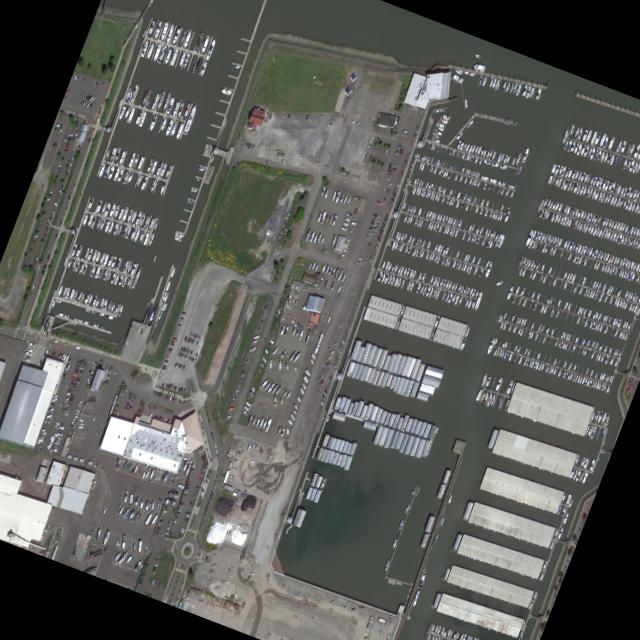ship: (181, 104, 197, 136), (129, 265, 142, 290), (204, 39, 215, 61), (156, 44, 167, 64), (473, 291, 483, 312), (160, 93, 171, 112), (155, 91, 165, 111), (194, 32, 204, 52), (169, 47, 179, 66), (182, 29, 192, 48), (199, 35, 209, 54), (165, 24, 174, 44), (151, 44, 161, 62), (170, 28, 181, 44), (159, 22, 168, 41), (485, 338, 495, 355), (534, 199, 544, 216), (165, 97, 174, 115), (152, 21, 161, 39), (494, 233, 504, 249), (169, 120, 178, 137), (126, 106, 135, 123), (150, 94, 159, 111), (148, 114, 157, 131), (164, 119, 173, 136), (174, 123, 183, 140), (177, 30, 186, 47), (139, 40, 148, 57), (145, 43, 154, 60), (524, 231, 533, 247), (138, 111, 147, 127), (483, 263, 492, 279), (520, 147, 529, 163), (561, 127, 569, 144), (598, 411, 607, 426), (175, 103, 184, 118), (127, 152, 135, 168), (131, 154, 139, 170), (423, 623, 431, 639), (107, 203, 115, 218), (632, 143, 640, 158), (182, 53, 190, 68), (199, 61, 207, 76), (102, 164, 110, 179), (117, 106, 125, 121), (108, 147, 116, 162), (140, 91, 148, 106), (134, 110, 142, 125), (171, 102, 179, 117), (145, 158, 153, 173), (149, 160, 157, 175), (154, 162, 162, 177), (158, 163, 166, 178), (163, 49, 171, 64), (513, 152, 521, 167), (472, 63, 485, 72), (432, 315, 440, 329), (133, 212, 141, 226), (584, 130, 592, 144), (589, 131, 597, 145), (113, 147, 121, 161), (112, 167, 120, 181), (107, 165, 115, 179), (117, 151, 125, 165), (182, 103, 190, 117), (136, 156, 144, 170), (163, 165, 171, 179), (139, 177, 147, 191), (134, 174, 142, 188), (97, 165, 105, 179), (147, 21, 155, 35), (319, 477, 327, 491), (451, 74, 463, 83), (598, 133, 605, 148), (86, 197, 93, 212), (178, 52, 185, 67), (589, 426, 597, 439), (458, 339, 466, 352), (567, 467, 575, 480), (120, 209, 128, 222), (580, 129, 588, 142), (567, 124, 575, 137), (121, 171, 129, 184), (103, 202, 111, 215), (89, 216, 97, 229), (142, 232, 149, 246), (593, 132, 600, 146), (99, 201, 106, 215), (147, 232, 154, 246), (193, 59, 200, 73), (514, 83, 521, 97), (524, 85, 531, 99), (509, 382, 516, 396), (503, 398, 510, 412), (595, 412, 603, 424), (219, 88, 231, 96), (495, 314, 503, 326), (588, 147, 595, 160), (608, 153, 615, 166), (603, 413, 610, 426), (93, 266, 100, 279), (120, 275, 127, 288), (129, 263, 136, 276), (125, 260, 132, 273), (114, 257, 121, 270), (109, 256, 116, 269), (105, 255, 112, 268), (112, 205, 119, 218), (129, 211, 136, 224), (70, 243, 77, 256), (74, 245, 81, 258), (615, 140, 622, 153), (619, 140, 626, 153), (575, 143, 582, 156), (82, 292, 89, 305), (105, 299, 112, 312), (576, 127, 583, 140), (149, 179, 156, 192), (124, 226, 131, 239), (133, 228, 140, 241), (123, 107, 130, 120), (103, 148, 110, 161), (124, 88, 131, 101), (159, 118, 166, 131), (81, 214, 88, 227), (116, 169, 123, 182), (158, 183, 165, 196), (577, 470, 584, 483), (582, 145, 589, 157), (598, 151, 605, 163), (627, 160, 634, 172), (592, 411, 599, 423), (463, 326, 470, 338), (561, 513, 568, 525), (574, 470, 581, 482), (556, 528, 563, 540), (112, 273, 119, 285), (121, 261, 128, 273), (101, 254, 108, 266), (81, 263, 88, 275), (125, 211, 132, 223), (129, 228, 136, 240), (137, 215, 144, 227), (142, 216, 149, 228), (147, 218, 154, 230), (71, 289, 78, 301), (606, 138, 613, 150), (628, 144, 635, 156), (116, 304, 123, 316), (98, 219, 105, 231), (111, 223, 118, 235), (94, 217, 101, 229), (95, 201, 102, 213), (86, 214, 93, 226), (126, 172, 133, 184), (503, 211, 510, 223), (379, 272, 386, 284), (316, 333, 323, 345), (429, 128, 436, 140), (581, 471, 587, 484), (117, 208, 123, 221), (103, 220, 109, 233), (621, 159, 628, 170), (624, 143, 631, 154), (588, 459, 595, 470), (553, 164, 560, 175), (97, 268, 104, 279), (120, 225, 127, 236), (73, 261, 80, 272), (75, 291, 82, 302), (126, 91, 133, 102), (550, 163, 557, 174), (615, 155, 621, 167), (631, 161, 637, 173), (634, 162, 640, 174), (582, 457, 588, 469), (90, 251, 96, 263), (98, 253, 104, 265), (64, 287, 70, 299), (107, 221, 113, 233), (78, 262, 84, 274), (68, 288, 74, 300), (579, 145, 585, 157), (602, 136, 608, 148), (455, 132, 463, 141), (465, 120, 473, 129), (493, 78, 499, 90), (534, 88, 540, 100), (612, 155, 618, 167), (564, 494, 571, 504), (586, 147, 592, 158), (592, 149, 598, 160), (595, 150, 601, 161), (602, 152, 608, 163), (571, 469, 577, 480), (579, 457, 585, 468), (556, 504, 562, 515), (584, 187, 590, 198), (609, 182, 615, 193), (599, 192, 605, 203), (596, 191, 602, 202), (593, 190, 599, 201), (594, 177, 600, 188), (627, 200, 633, 211), (562, 180, 568, 191), (578, 185, 584, 196), (579, 172, 585, 183), (575, 184, 581, 195), (572, 183, 578, 194), (563, 167, 569, 178), (560, 166, 566, 177), (466, 298, 472, 309), (102, 269, 108, 280), (117, 274, 123, 285), (57, 285, 63, 296), (89, 266, 95, 277), (116, 225, 122, 236), (138, 231, 144, 242), (66, 258, 72, 269), (70, 260, 76, 271), (573, 142, 579, 153), (569, 141, 575, 152), (101, 299, 107, 310), (98, 298, 104, 309), (566, 140, 572, 151), (573, 127, 579, 138), (132, 84, 138, 95), (427, 287, 433, 298), (434, 289, 440, 300), (453, 295, 459, 306), (418, 284, 424, 295), (389, 275, 395, 286), (376, 271, 382, 282), (386, 274, 392, 285), (383, 273, 389, 284), (415, 283, 421, 294), (399, 278, 405, 289), (405, 280, 411, 291), (516, 165, 522, 176), (508, 82, 514, 93), (521, 85, 527, 96), (458, 140, 464, 151), (605, 154, 611, 164), (428, 331, 434, 341), (586, 426, 592, 436), (469, 300, 475, 310), (573, 455, 579, 465), (560, 506, 566, 516), (548, 540, 554, 550), (628, 226, 634, 236), (616, 234, 622, 244), (567, 241, 573, 251), (573, 243, 579, 253), (581, 245, 587, 255), (592, 249, 598, 259), (595, 250, 601, 260), (624, 200, 630, 210), (625, 187, 631, 197), (621, 187, 627, 197), (618, 198, 624, 208), (611, 196, 617, 206), (615, 185, 621, 195), (608, 195, 614, 205), (602, 194, 608, 204), (603, 181, 609, 191), (600, 180, 606, 190), (590, 189, 596, 199), (591, 177, 597, 187), (631, 190, 637, 200), (633, 203, 639, 213), (553, 202, 559, 212), (556, 203, 562, 213), (561, 216, 567, 226), (582, 174, 588, 184), (576, 172, 582, 182), (559, 179, 565, 189), (553, 177, 559, 187), (125, 277, 131, 287), (94, 252, 100, 262), (501, 154, 507, 164), (152, 221, 158, 231), (86, 251, 92, 261), (109, 302, 115, 312), (113, 304, 119, 314), (91, 296, 97, 306), (434, 277, 440, 287), (440, 291, 446, 301), (452, 282, 458, 292), (458, 284, 464, 294), (456, 296, 462, 306), (461, 285, 467, 295), (383, 261, 389, 271), (392, 277, 398, 287), (395, 277, 401, 287), (408, 282, 414, 292), (455, 140, 461, 150), (476, 146, 482, 156), (528, 87, 534, 97), (500, 81, 506, 91), (504, 82, 510, 92), (512, 82, 517, 94), (601, 216, 606, 227), (613, 183, 618, 194), (585, 174, 590, 185), (110, 272, 115, 283), (563, 139, 568, 150), (425, 286, 430, 297), (477, 75, 482, 86), (560, 493, 566, 502), (552, 529, 558, 538), (617, 223, 623, 232), (614, 222, 620, 231), (539, 233, 545, 242), (542, 234, 548, 243), (595, 215, 601, 224), (602, 230, 608, 239), (605, 230, 611, 239), (624, 237, 630, 246), (627, 238, 633, 247), (591, 227, 597, 236), (592, 215, 598, 224), (605, 194, 611, 203), (550, 201, 556, 210), (570, 208, 576, 217), (578, 211, 584, 220), (577, 222, 583, 231), (544, 211, 550, 220), (557, 166, 563, 175), (541, 210, 547, 219), (473, 289, 479, 298), (105, 271, 111, 280), (441, 114, 450, 120), (498, 164, 507, 170), (94, 298, 100, 307), (428, 275, 434, 284), (431, 276, 437, 285), (431, 288, 437, 297), (443, 280, 449, 289), (446, 281, 452, 290), (389, 263, 395, 272), (392, 264, 398, 273), (398, 266, 404, 275), (442, 215, 448, 224), (496, 181, 505, 187), (488, 178, 497, 184), (546, 176, 552, 185), (600, 429, 605, 439), (589, 412, 594, 422), (534, 230, 539, 240), (608, 231, 613, 241), (612, 221, 617, 231), (548, 235, 553, 245), (554, 237, 559, 247), (556, 238, 561, 248), (601, 252, 606, 262), (628, 189, 633, 199), (615, 197, 620, 207), (607, 181, 612, 191), (630, 202, 635, 212), (587, 188, 592, 198), (589, 175, 594, 185), (553, 213, 558, 223), (556, 214, 561, 224), (564, 217, 569, 227), (573, 208, 578, 218), (576, 209, 581, 219), (581, 186, 586, 196), (573, 171, 578, 181), (569, 182, 574, 192), (570, 170, 575, 180), (566, 182, 571, 192), (61, 287, 66, 297), (83, 250, 88, 260), (129, 94, 134, 104), (468, 287, 473, 297), (496, 153, 501, 163), (421, 286, 426, 296), (447, 293, 452, 303), (456, 283, 461, 293), (490, 150, 495, 160), (481, 76, 486, 86), (491, 78, 496, 88), (128, 494, 133, 504), (144, 468, 149, 478), (558, 216, 564, 224), (435, 245, 441, 253), (449, 283, 455, 291), (464, 287, 470, 295), (410, 271, 416, 279), (482, 159, 490, 165), (454, 69, 462, 75), (480, 175, 488, 181), (625, 161, 630, 170), (442, 628, 447, 637), (584, 426, 589, 435), (541, 561, 546, 570), (538, 572, 543, 581), (527, 602, 532, 611), (517, 631, 522, 640), (470, 289, 475, 298), (634, 228, 639, 237), (631, 227, 636, 236), (623, 225, 628, 234), (531, 230, 536, 239), (537, 232, 542, 241), (594, 227, 599, 236), (597, 228, 602, 237), (600, 229, 605, 238), (604, 218, 609, 227), (611, 233, 616, 242), (614, 233, 619, 242), (619, 235, 624, 244), (622, 236, 627, 245), (630, 239, 635, 248), (543, 245, 548, 254), (551, 236, 556, 245), (606, 255, 611, 264), (612, 256, 617, 265), (617, 258, 622, 267), (627, 272, 632, 281), (629, 273, 634, 282), (634, 263, 639, 272), (600, 263, 605, 272), (574, 255, 579, 264), (548, 246, 553, 255), (562, 240, 567, 249), (565, 241, 570, 250), (571, 243, 576, 252), (585, 246, 590, 255), (587, 248, 592, 257), (598, 252, 603, 261), (589, 226, 594, 235), (621, 200, 626, 209), (619, 186, 624, 195), (590, 214, 595, 223), (562, 205, 567, 214), (565, 206, 570, 215), (568, 207, 573, 216), (572, 220, 577, 229), (575, 221, 580, 230), (584, 212, 589, 221), (580, 223, 585, 232), (587, 213, 592, 222), (548, 201, 553, 210), (550, 213, 555, 222), (567, 169, 572, 178), (556, 178, 561, 187), (538, 209, 543, 218), (542, 199, 547, 208), (628, 261, 633, 270), (87, 295, 92, 304), (504, 156, 509, 165), (499, 154, 504, 163), (456, 262, 461, 271), (443, 257, 448, 266), (444, 247, 449, 256), (435, 255, 440, 264), (438, 245, 443, 254), (432, 254, 437, 263), (411, 248, 416, 257), (399, 233, 404, 242), (438, 278, 443, 287), (441, 279, 446, 288), (444, 293, 449, 302), (450, 294, 455, 303), (463, 299, 468, 308), (420, 272, 425, 281), (417, 272, 422, 281), (390, 241, 395, 250), (394, 231, 399, 240), (380, 261, 385, 270), (386, 263, 391, 272), (402, 267, 407, 276), (404, 268, 409, 277), (408, 269, 413, 278), (461, 142, 466, 151), (467, 144, 472, 153), (470, 145, 475, 154), (473, 146, 478, 155), (479, 147, 484, 156), (411, 206, 416, 215), (415, 218, 420, 227), (434, 223, 439, 232), (448, 217, 453, 226), (451, 218, 456, 227), (453, 219, 458, 228), (488, 79, 493, 88), (402, 214, 407, 223), (636, 149, 640, 160), (507, 184, 514, 190), (436, 626, 441, 634), (429, 624, 434, 632), (440, 196, 445, 204), (439, 627, 444, 635), (582, 378, 587, 386), (594, 381, 599, 389), (599, 383, 604, 391), (604, 385, 609, 393), (492, 348, 497, 356), (494, 349, 499, 357), (497, 349, 502, 357), (561, 371, 566, 379), (529, 360, 534, 368), (534, 362, 539, 370), (556, 369, 561, 377), (445, 629, 450, 637), (567, 500, 572, 508), (520, 620, 525, 628), (626, 226, 631, 234), (620, 224, 625, 232), (527, 240, 532, 248), (530, 241, 535, 249), (540, 245, 545, 253), (545, 235, 550, 243), (609, 221, 614, 229), (633, 240, 638, 248), (605, 265, 610, 273), (607, 266, 612, 274), (609, 256, 614, 264), (617, 269, 622, 277), (622, 270, 627, 278), (604, 254, 609, 262), (566, 253, 571, 261), (571, 255, 576, 263), (576, 245, 581, 253), (590, 250, 595, 258), (592, 261, 597, 269), (598, 179, 603, 187), (636, 204, 640, 214), (581, 212, 586, 220), (583, 224, 588, 232), (586, 225, 591, 233), (79, 294, 84, 302), (490, 162, 498, 167), (105, 315, 113, 320), (141, 29, 146, 37), (451, 260, 456, 268), (454, 251, 459, 259), (441, 247, 446, 255), (433, 244, 438, 252), (427, 253, 432, 261), (424, 252, 429, 260), (425, 241, 430, 249), (414, 238, 419, 246), (409, 237, 414, 245), (454, 261, 459, 269), (475, 226, 480, 234), (480, 238, 485, 246), (483, 229, 488, 237), (485, 240, 490, 248), (488, 230, 493, 238), (484, 260, 489, 268), (478, 269, 483, 277), (467, 266, 472, 274), (470, 256, 475, 264), (398, 244, 403, 252), (393, 242, 398, 250), (396, 233, 401, 241), (396, 266, 401, 274), (467, 224, 472, 232), (453, 230, 458, 238), (439, 119, 447, 124), (464, 144, 469, 152), (481, 150, 486, 158), (456, 220, 461, 228), (413, 218, 418, 226), (418, 219, 423, 227), (424, 211, 429, 219), (427, 211, 432, 219), (426, 221, 431, 229), (429, 212, 434, 220), (437, 225, 442, 233), (437, 214, 442, 222), (440, 215, 445, 223), (442, 227, 447, 235), (445, 217, 450, 225), (450, 229, 455, 237), (405, 216, 410, 224), (401, 202, 406, 210), (631, 263, 636, 271), (411, 187, 416, 195), (494, 232, 499, 240), (440, 257, 445, 265), (512, 354, 517, 362), (603, 374, 608, 382), (615, 299, 620, 307), (416, 188, 421, 196), (427, 165, 432, 173), (496, 187, 501, 195), (452, 631, 457, 639), (623, 260, 628, 268), (516, 327, 521, 335), (519, 318, 524, 326), (607, 219, 611, 228), (636, 240, 640, 249), (610, 267, 614, 276), (615, 257, 619, 266), (577, 256, 581, 265), (420, 239, 424, 248), (488, 149, 492, 158), (511, 157, 515, 166), (429, 222, 433, 231), (409, 205, 413, 214), (559, 250, 563, 259), (573, 375, 578, 382), (580, 377, 585, 384), (587, 380, 592, 387), (592, 381, 597, 388), (515, 346, 520, 353), (525, 349, 530, 356), (532, 361, 537, 368), (544, 366, 549, 373), (458, 633, 463, 640), (469, 235, 474, 242), (465, 255, 470, 262), (438, 123, 445, 128), (475, 180, 480, 187), (191, 60, 196, 67), (409, 186, 414, 193), (529, 322, 534, 329), (605, 375, 610, 382), (578, 338, 583, 345), (433, 625, 437, 633), (498, 214, 502, 222), (484, 200, 488, 208), (585, 379, 589, 387), (590, 380, 594, 388), (564, 371, 568, 379), (566, 373, 570, 381), (567, 363, 571, 371), (522, 358, 526, 366), (502, 351, 506, 359), (523, 348, 527, 356), (527, 359, 531, 367), (547, 366, 551, 374), (532, 592, 536, 600), (551, 248, 555, 256), (613, 267, 617, 275), (620, 270, 624, 278), (625, 271, 629, 279), (635, 275, 639, 283), (579, 246, 583, 254), (582, 258, 586, 266), (595, 262, 599, 270), (635, 191, 639, 199), (567, 219, 571, 227), (546, 200, 550, 208), (419, 250, 423, 258), (414, 249, 418, 257), (417, 239, 421, 247), (404, 245, 408, 253), (463, 254, 467, 262), (460, 263, 464, 271), (470, 224, 474, 232), (472, 235, 476, 243), (478, 227, 482, 235), (486, 229, 490, 237), (491, 231, 495, 239), (473, 267, 477, 275), (465, 265, 469, 273), (462, 264, 466, 272), (396, 243, 400, 251), (461, 232, 465, 240), (485, 150, 489, 158), (436, 194, 440, 202), (421, 190, 425, 198), (417, 208, 421, 216), (432, 223, 436, 231), (435, 213, 439, 221), (448, 228, 452, 236), (408, 216, 412, 224), (420, 163, 424, 171), (626, 261, 630, 269), (583, 339, 587, 347), (406, 205, 410, 213), (431, 193, 435, 201), (446, 259, 450, 267), (593, 371, 597, 379), (595, 343, 599, 351), (419, 180, 423, 188), (417, 179, 421, 187), (487, 183, 491, 191), (412, 178, 416, 186), (505, 352, 509, 360), (519, 328, 523, 336), (55, 299, 61, 304), (57, 312, 63, 317), (98, 312, 104, 317), (435, 131, 441, 136), (178, 115, 184, 120), (437, 168, 441, 175), (432, 167, 436, 174), (439, 169, 443, 176), (444, 171, 448, 178), (454, 174, 458, 181), (450, 199, 454, 206), (459, 175, 463, 182), (463, 177, 467, 184), (468, 178, 472, 185), (488, 211, 492, 218), (472, 197, 476, 204), (467, 196, 471, 203), (568, 374, 572, 381), (572, 365, 576, 372), (571, 374, 575, 381), (576, 376, 580, 383), (578, 377, 582, 384), (584, 368, 588, 375), (597, 383, 601, 390), (602, 384, 606, 391), (500, 351, 504, 358), (537, 363, 541, 370), (549, 367, 553, 374), (552, 368, 556, 375), (462, 633, 466, 640), (533, 242, 537, 249), (603, 265, 607, 272), (51, 300, 55, 307), (430, 254, 434, 261), (417, 250, 421, 257), (406, 246, 410, 253), (407, 236, 411, 243), (467, 234, 471, 241), (475, 237, 479, 244), (488, 241, 492, 248), (476, 258, 480, 265), (474, 157, 478, 164), (424, 191, 428, 198), (448, 199, 452, 206), (455, 201, 459, 208), (464, 204, 468, 211), (491, 212, 495, 219), (419, 190, 423, 197), (424, 182, 428, 189), (427, 183, 431, 190), (432, 213, 436, 220), (509, 191, 513, 198), (504, 189, 508, 196), (499, 188, 503, 195), (482, 183, 486, 190), (414, 188, 418, 195), (426, 192, 430, 199), (460, 202, 464, 209), (415, 178, 419, 185), (446, 172, 450, 179), (455, 633, 459, 640), (637, 229, 640, 238), (637, 276, 640, 285), (637, 264, 640, 273), (637, 193, 640, 202), (63, 314, 68, 319), (442, 171, 446, 177), (427, 634, 431, 640), (449, 164, 453, 170), (473, 180, 477, 186), (471, 179, 475, 185), (445, 198, 449, 204), (499, 205, 503, 211), (479, 209, 483, 215), (479, 200, 483, 206), (474, 207, 478, 213), (82, 321, 88, 325), (84, 308, 90, 312), (90, 310, 96, 314), (92, 324, 98, 328), (456, 191, 459, 199), (465, 195, 469, 201), (433, 139, 439, 143), (429, 144, 433, 150), (437, 127, 443, 131), (478, 159, 482, 165), (465, 155, 469, 161), (463, 154, 467, 160), (448, 190, 452, 196), (441, 188, 445, 194), (434, 194, 438, 200), (436, 186, 440, 192), (483, 210, 487, 216), (429, 184, 433, 190), (473, 227, 477, 233), (458, 153, 462, 159), (431, 158, 435, 164), (435, 159, 439, 165), (441, 161, 445, 167), (448, 150, 452, 156), (454, 151, 458, 157), (429, 167, 433, 173), (449, 630, 452, 638), (422, 568, 426, 574), (145, 101, 149, 107), (494, 213, 497, 220), (429, 192, 432, 199), (418, 163, 421, 170), (430, 635, 434, 640), (460, 168, 464, 173), (464, 169, 468, 174), (77, 319, 82, 323), (463, 71, 468, 75), (474, 54, 479, 58), (430, 158, 434, 163), (437, 161, 441, 166), (461, 154, 465, 159), (467, 156, 471, 161), (420, 155, 424, 160), (422, 156, 426, 161), (466, 169, 469, 175), (470, 171, 473, 177), (472, 171, 475, 177), (476, 172, 479, 178), (496, 214, 499, 220), (468, 73, 474, 76), (463, 194, 466, 200), (439, 187, 442, 193), (432, 184, 435, 190), (468, 170, 471, 176), (424, 156, 427, 162), (434, 159, 437, 165), (451, 150, 454, 156), (470, 156, 473, 162), (416, 161, 419, 167), (435, 428, 438, 434), (433, 636, 437, 640), (453, 166, 456, 171), (474, 172, 477, 177), (426, 157, 429, 162), (408, 167, 411, 172), (466, 636, 469, 640), (73, 318, 77, 321), (463, 297, 466, 301), (405, 178, 408, 182), (413, 154, 416, 158), (410, 163, 413, 167), (437, 637, 440, 640), (472, 637, 475, 640), (469, 637, 472, 640), (489, 262, 492, 264), (415, 282, 417, 284)
small-vehicle: (116, 505, 121, 513), (92, 414, 96, 421), (251, 443, 255, 450), (200, 454, 205, 459), (74, 364, 79, 369), (225, 568, 230, 573), (102, 508, 106, 514), (136, 513, 140, 519), (155, 477, 159, 483), (147, 479, 153, 483), (138, 467, 142, 473), (123, 341, 127, 347), (139, 328, 143, 334), (127, 462, 131, 468), (100, 364, 104, 370), (268, 113, 272, 119), (369, 137, 373, 143), (401, 130, 407, 134), (337, 349, 341, 355), (332, 363, 336, 369), (246, 445, 250, 451), (137, 326, 140, 333), (157, 581, 160, 588), (116, 459, 121, 463), (114, 463, 119, 467), (157, 498, 162, 502), (165, 418, 169, 423), (162, 510, 167, 514), (158, 519, 163, 523), (171, 488, 175, 493), (73, 383, 78, 387), (88, 370, 93, 374), (78, 400, 83, 404), (77, 403, 82, 407), (49, 402, 54, 406), (395, 183, 399, 188), (399, 171, 403, 176), (330, 600, 334, 605), (341, 605, 346, 609), (376, 200, 381, 204), (391, 192, 395, 197), (372, 213, 377, 217), (369, 221, 374, 225), (378, 231, 382, 236), (379, 228, 383, 233), (323, 389, 327, 394), (321, 394, 325, 399), (319, 401, 323, 406), (322, 392, 326, 397), (340, 340, 344, 345), (148, 413, 152, 418), (231, 467, 236, 471), (233, 459, 238, 463), (199, 472, 204, 476), (191, 495, 196, 499), (148, 501, 151, 507), (115, 413, 118, 419), (164, 394, 167, 400), (97, 363, 100, 369), (57, 353, 60, 359), (369, 257, 372, 263), (191, 333, 194, 339), (103, 546, 106, 552), (378, 630, 381, 636), (634, 363, 637, 369), (376, 236, 379, 242), (185, 348, 188, 354), (187, 337, 190, 343), (178, 386, 181, 392), (168, 395, 171, 401), (168, 383, 171, 389), (211, 487, 214, 493), (213, 480, 216, 486), (105, 376, 109, 380), (152, 415, 156, 419), (154, 416, 158, 420), (157, 416, 161, 420), (138, 578, 142, 582), (174, 515, 178, 519), (155, 558, 159, 562), (151, 568, 155, 572), (202, 461, 206, 465), (64, 397, 68, 401), (68, 398, 72, 402), (92, 361, 96, 365), (74, 415, 78, 419), (72, 418, 76, 422), (69, 424, 73, 428), (113, 409, 117, 413), (62, 373, 66, 377), (74, 371, 78, 375), (385, 177, 389, 181), (387, 172, 391, 176), (373, 222, 377, 226), (357, 257, 361, 261), (342, 249, 346, 253), (382, 187, 386, 191), (387, 169, 391, 173), (385, 188, 389, 192), (370, 219, 374, 223), (325, 362, 329, 366), (317, 376, 321, 380), (318, 382, 322, 386), (317, 386, 321, 390), (315, 390, 319, 394), (336, 354, 340, 358), (327, 356, 331, 360), (179, 316, 183, 320), (181, 311, 185, 315), (176, 323, 180, 327), (178, 321, 182, 325), (164, 357, 168, 361), (178, 504, 182, 508), (179, 530, 183, 534), (115, 462, 120, 465), (153, 477, 156, 482), (125, 464, 128, 469), (211, 437, 214, 442), (204, 479, 207, 484), (207, 498, 210, 503), (206, 501, 209, 506), (258, 447, 261, 452), (152, 405, 155, 410), (163, 409, 166, 414), (170, 396, 173, 401), (158, 392, 161, 397), (210, 432, 213, 437), (199, 421, 202, 426), (65, 392, 70, 395), (75, 409, 80, 412), (74, 412, 79, 415), (71, 421, 76, 424), (106, 366, 109, 371), (51, 351, 54, 356), (52, 352, 55, 357), (81, 359, 84, 364), (161, 383, 164, 388), (171, 385, 174, 390), (364, 237, 369, 240), (375, 240, 378, 245), (245, 142, 248, 147), (247, 143, 250, 148), (376, 159, 379, 164), (197, 335, 200, 340), (195, 335, 198, 340), (193, 334, 196, 339), (249, 572, 254, 575), (152, 581, 155, 586), (249, 143, 252, 148), (252, 144, 255, 149), (415, 125, 418, 130), (397, 152, 402, 155), (577, 527, 580, 532), (376, 630, 379, 635), (390, 197, 393, 202), (183, 348, 186, 353), (189, 350, 192, 355), (187, 355, 190, 360), (195, 341, 198, 346), (189, 332, 192, 337), (183, 353, 186, 358), (325, 386, 328, 391), (191, 339, 194, 344), (189, 338, 192, 343), (180, 388, 183, 393), (173, 362, 176, 367), (179, 364, 182, 369), (181, 365, 184, 370), (179, 352, 182, 357), (181, 347, 184, 352), (183, 336, 186, 341), (179, 346, 182, 351), (175, 386, 178, 391), (170, 384, 173, 389), (164, 383, 167, 388), (163, 383, 166, 388), (175, 363, 178, 368), (185, 355, 188, 360), (192, 358, 195, 363), (213, 443, 216, 448), (228, 478, 233, 481), (228, 475, 233, 478), (212, 484, 215, 489), (199, 491, 202, 496), (71, 376, 75, 379), (166, 384, 169, 388), (127, 408, 131, 411), (106, 373, 110, 376), (103, 380, 107, 383), (94, 431, 96, 437), (119, 393, 123, 396), (126, 400, 130, 403), (130, 400, 133, 404), (127, 397, 131, 400), (136, 409, 140, 412), (136, 410, 139, 414), (161, 475, 164, 479), (209, 494, 211, 500), (204, 507, 206, 513), (253, 444, 256, 448), (259, 449, 262, 453), (159, 417, 162, 421), (203, 430, 205, 436), (145, 559, 148, 563), (137, 581, 141, 584), (182, 457, 186, 460), (179, 502, 183, 505), (182, 493, 186, 496), (184, 486, 188, 489), (152, 566, 156, 569), (124, 406, 127, 410), (125, 404, 128, 408), (125, 402, 129, 405), (73, 386, 77, 389), (63, 400, 67, 403), (85, 381, 89, 384), (99, 359, 103, 362), (114, 405, 118, 408), (79, 367, 83, 370), (36, 363, 39, 367), (61, 377, 65, 380), (72, 374, 76, 377), (79, 369, 82, 373), (75, 378, 79, 381), (70, 380, 74, 383), (70, 382, 73, 386), (67, 389, 71, 392), (70, 393, 73, 397), (69, 396, 73, 399), (74, 368, 78, 371), (381, 200, 385, 203), (374, 220, 378, 223), (366, 232, 370, 235), (372, 217, 376, 220), (349, 227, 353, 230), (348, 229, 352, 232), (340, 254, 344, 257), (328, 122, 332, 125), (355, 121, 359, 124), (393, 131, 397, 134), (387, 183, 391, 186), (153, 564, 157, 567), (243, 142, 246, 146), (385, 149, 388, 153), (395, 147, 399, 150), (397, 145, 401, 148), (414, 129, 417, 133), (394, 152, 397, 156), (403, 160, 406, 164), (392, 167, 395, 171), (565, 560, 567, 566), (553, 593, 555, 599), (371, 231, 374, 235), (377, 234, 380, 238), (381, 222, 384, 226), (185, 338, 188, 342), (194, 353, 197, 357), (189, 357, 192, 361), (191, 357, 193, 363), (316, 378, 319, 382), (327, 347, 331, 350), (176, 387, 179, 391), (177, 364, 180, 368), (177, 352, 180, 356), (172, 337, 176, 340), (170, 340, 174, 343), (165, 354, 169, 357), (162, 365, 166, 368), (161, 367, 165, 370), (173, 520, 177, 523), (168, 520, 172, 523), (164, 532, 168, 535), (127, 519, 131, 522), (167, 350, 171, 353), (162, 362, 166, 365), (181, 354, 184, 358), (177, 509, 181, 512), (177, 507, 181, 510), (250, 460, 254, 463), (201, 468, 205, 471), (183, 491, 187, 494), (198, 477, 202, 480), (185, 514, 189, 517), (180, 528, 184, 531), (190, 469, 194, 472), (187, 478, 191, 481), (186, 480, 190, 483), (184, 488, 187, 492), (130, 324, 132, 329), (206, 474, 208, 479), (201, 488, 203, 493), (210, 491, 212, 496), (205, 504, 207, 509), (166, 409, 168, 414), (160, 393, 162, 398), (173, 386, 175, 391), (197, 341, 199, 346), (151, 579, 153, 584), (154, 581, 156, 586), (319, 113, 321, 118), (374, 246, 376, 251), (183, 388, 185, 393), (187, 350, 189, 355), (215, 449, 217, 454), (115, 467, 118, 470), (139, 404, 142, 407), (172, 475, 175, 478), (144, 562, 147, 565), (186, 483, 189, 486), (195, 486, 198, 489), (184, 519, 187, 522), (202, 457, 205, 460), (128, 405, 131, 408), (78, 373, 81, 376), (386, 186, 389, 189), (366, 235, 369, 238), (399, 149, 402, 152), (382, 198, 385, 201), (368, 227, 371, 230), (373, 226, 376, 229), (367, 243, 370, 246), (358, 261, 361, 264), (319, 379, 322, 382), (332, 342, 335, 345), (170, 343, 173, 346), (168, 348, 171, 351), (167, 352, 170, 355), (164, 359, 167, 362), (243, 489, 246, 492), (168, 522, 171, 525), (166, 527, 169, 530), (201, 426, 203, 430), (170, 480, 174, 482), (86, 379, 90, 381), (108, 367, 110, 371), (74, 381, 78, 383), (79, 360, 81, 364), (287, 114, 289, 118), (305, 115, 307, 119), (381, 226, 383, 230), (172, 397, 174, 401), (174, 398, 176, 402), (176, 512, 179, 514), (156, 527, 159, 529), (169, 346, 172, 348)
